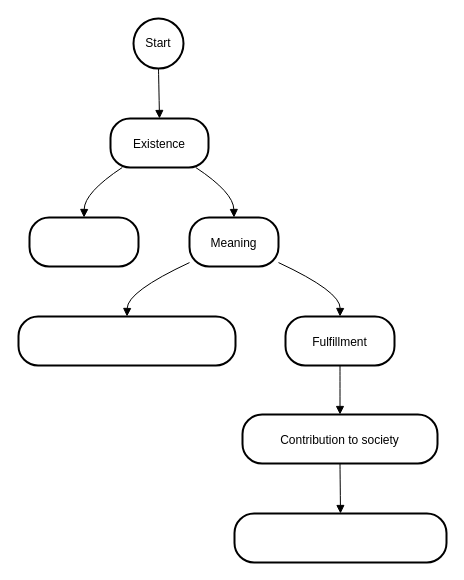
Image size: 464x580. Some labels were removed from this diagram. Here are the shapes that lost their labels. From the top down, the centre of each, then its label:
pixel 83 241: Experience
pixel 126 340: Discover personal purpose
pixel 340 537: Positive impact on others
